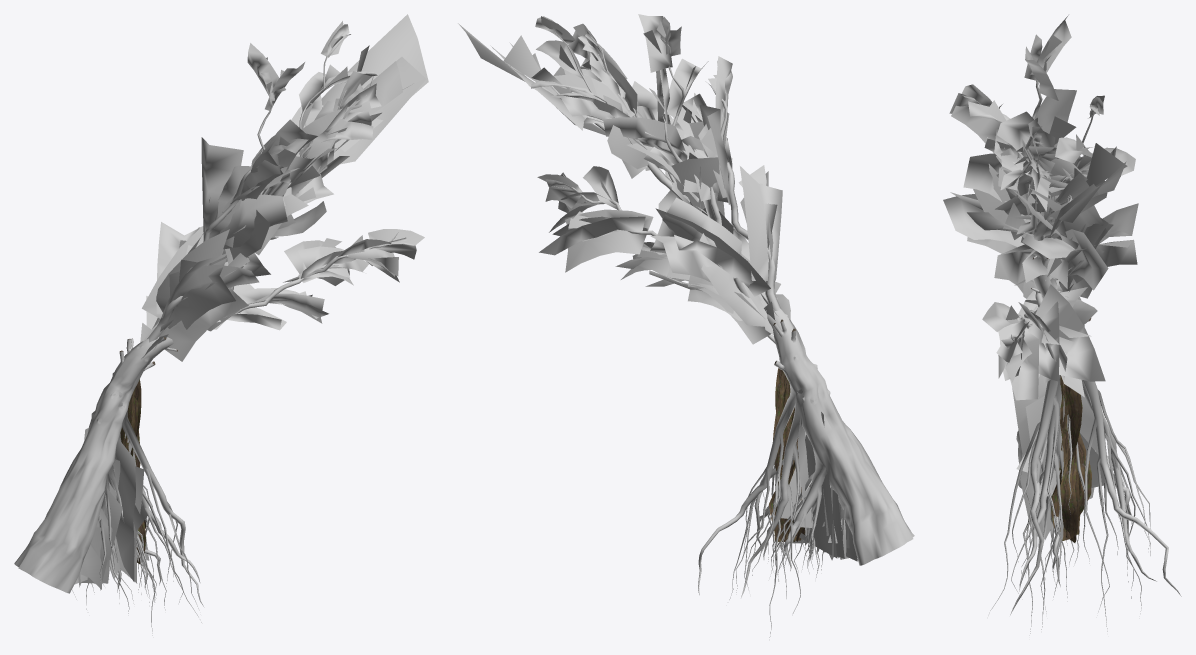
File: Tree_05_2_L1.fbx
3 views of the same model, side by side, from view 1: azimuth 30°, elevation 25°; view 2: azimuth 150°, elevation 25°; view 3: azimuth 270°, elevation 25° (orthographic). The views are drawn at different scales.
Parts seen in each view (by area): view 1: polySurface2332; view 2: polySurface2332; view 3: polySurface2332.
Boxes of the visible parts, box(x1,y1,x2,y2) form: polySurface2332: box(14, 14, 428, 635); polySurface2332: box(458, 14, 914, 637); polySurface2332: box(943, 15, 1181, 635).
Size of the model in its own units: 1025 by 1312 by 414.
